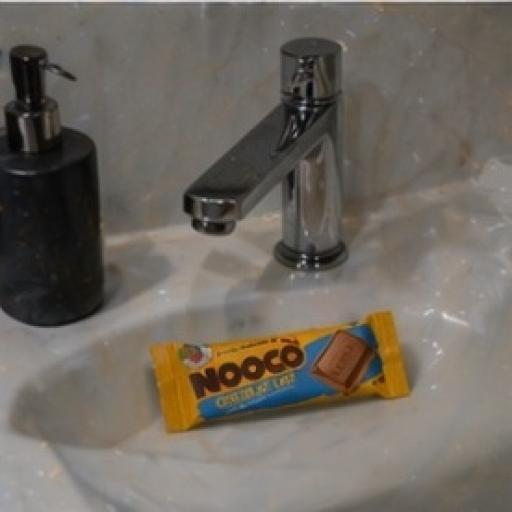nooco: (118, 291, 431, 450)
